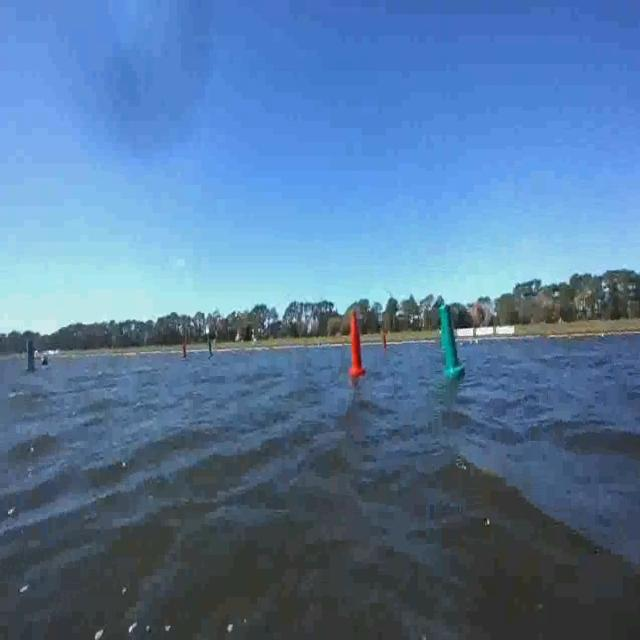green-column-buoy: (439, 304, 467, 379), (24, 337, 39, 374), (207, 336, 215, 358)
red-column-buoy: (348, 310, 366, 377), (382, 328, 389, 350)
